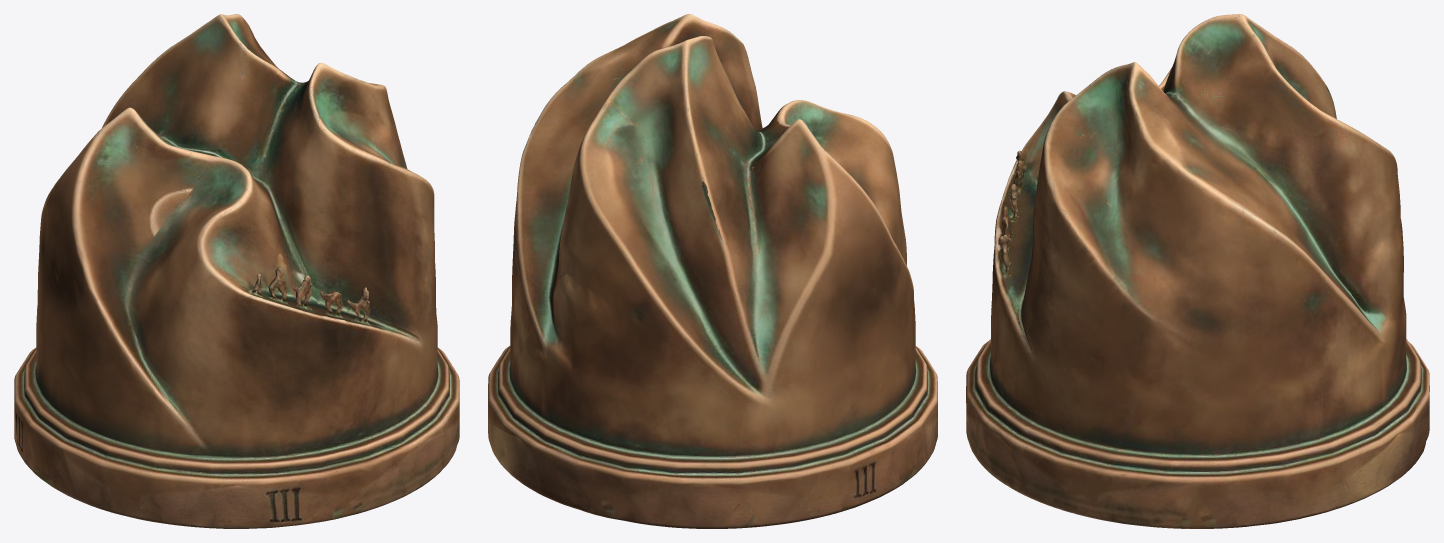
The model's file is erg_chebbi_meshy.glb.
3 views of the same model, side by side, from view 1: azimuth 30°, elevation 25°; view 2: azimuth 150°, elevation 25°; view 3: azimuth 270°, elevation 25° (orthographic). The views are drawn at different scales.
Parts seen in each view (by area): view 1: Mesh_0; view 2: Mesh_0; view 3: Mesh_0.
Part boxes in pixels (box(x1,y1,x2,y2)): Mesh_0: box(14, 14, 459, 528); Mesh_0: box(488, 14, 937, 528); Mesh_0: box(966, 14, 1429, 528).
Size of the model in its own units: 1.91 by 1.91 by 1.91.
1 material, 1 textured.
